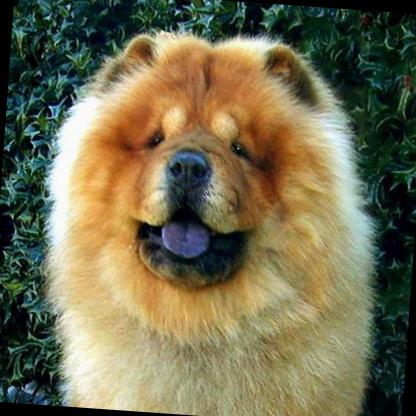chow: (27, 12, 394, 416)
